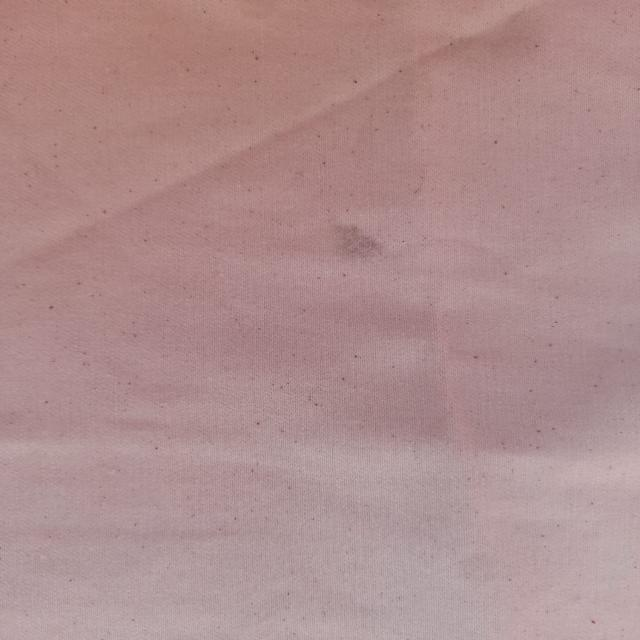taaaches: (312, 210, 388, 270)
